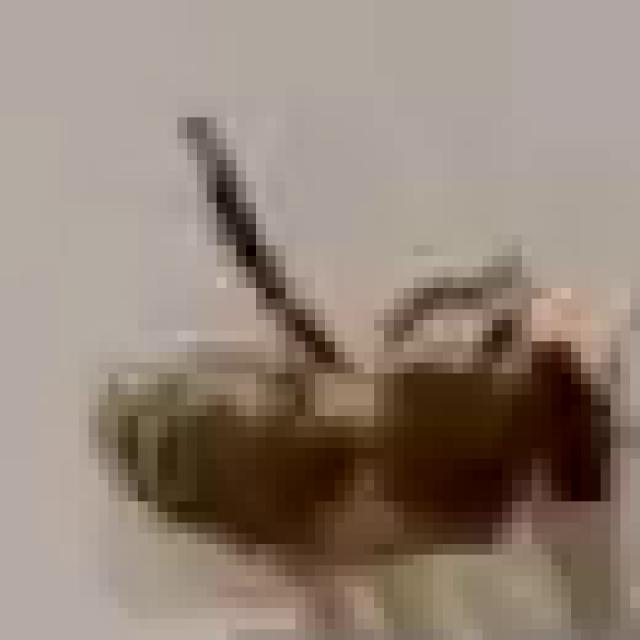honeybee: (92, 232, 640, 624)
